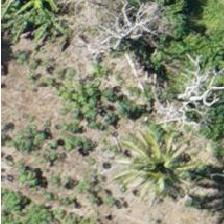coconut_tree: (113, 118, 203, 208)
